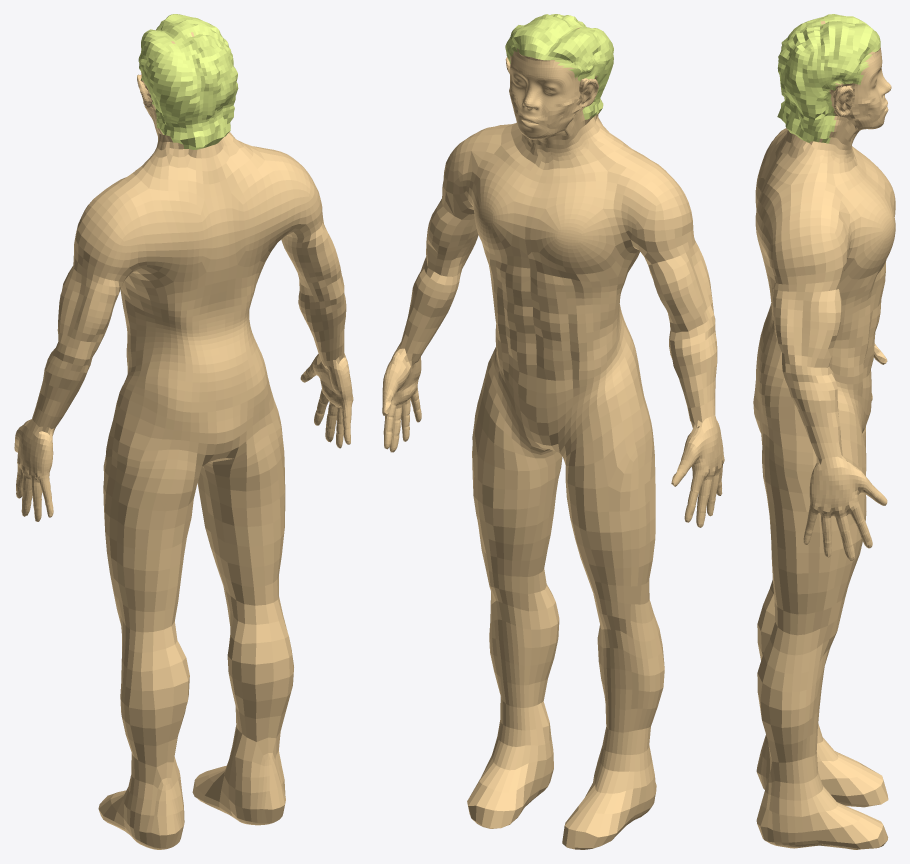
The model's file is Patient.fbx.
3 views of the same model, side by side, from view 1: azimuth 30°, elevation 25°; view 2: azimuth 150°, elevation 25°; view 3: azimuth 270°, elevation 25° (orthographic).
Visible parts, largest first — view 1: Cube; view 2: Cube; view 3: Cube.
Part boxes in pixels (x1=…): Cube: x1=14, y1=14, x2=353, y2=849; Cube: x1=382, y1=14, x2=724, y2=849; Cube: x1=753, y1=14, x2=895, y2=849.
Size of the model in its own units: 168 by 398 by 64.06.
